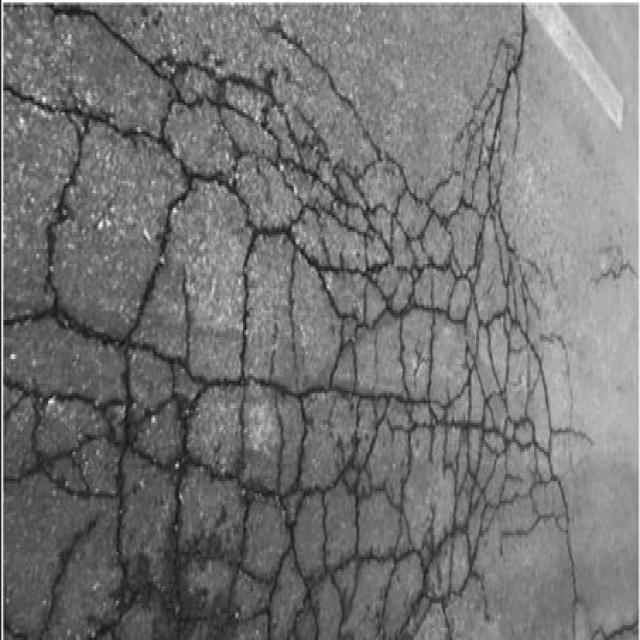Drain Hole: (0, 0, 587, 603)
